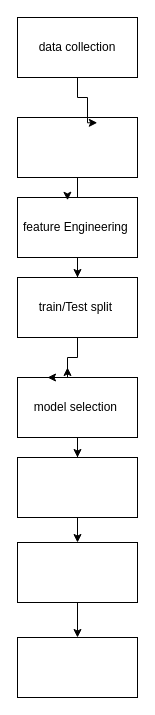
Some shapes in this 155 by 715 pixel diagram are drawn without their labels. The shapes that lost their labels are listed below. From the top down, each one's centre as x and y in pixels, then its label:
At point 77,147: "data cleaning".
At point 77,487: "model Training".
At point 77,667: "final model".
